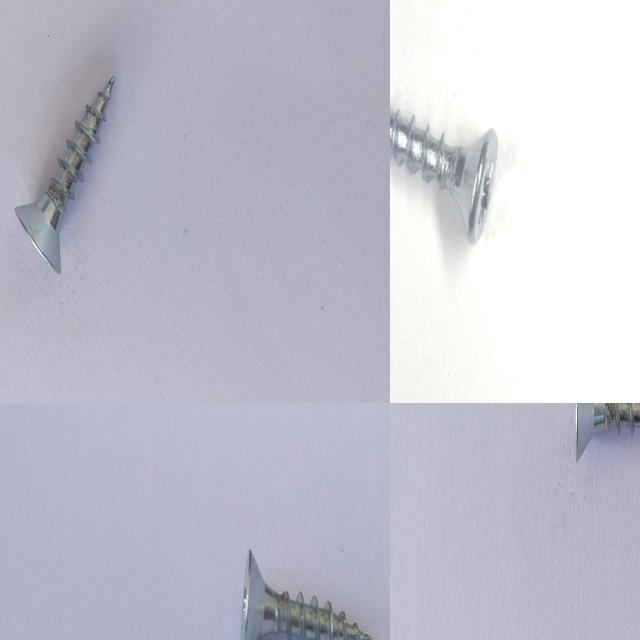Screw: (15, 76, 115, 273), (390, 109, 498, 243), (241, 548, 372, 640), (576, 403, 640, 460)
